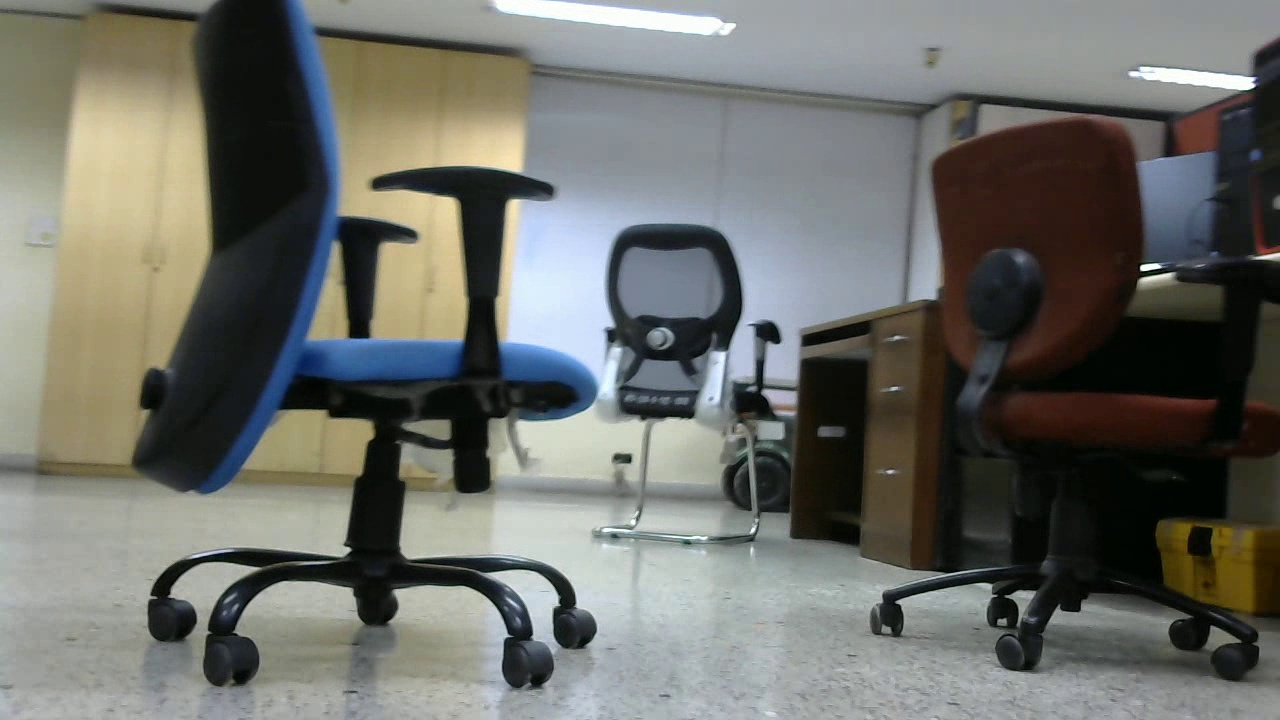chair: (129, 12, 612, 685), (884, 114, 1280, 679), (571, 217, 779, 553)
